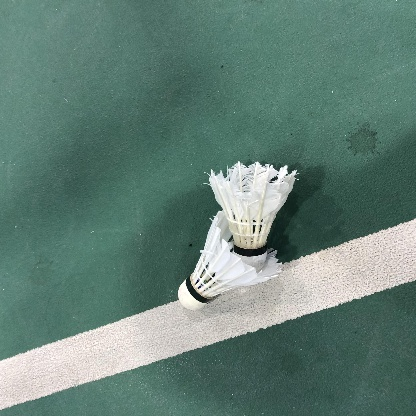ball_single: (177, 161, 297, 310)
